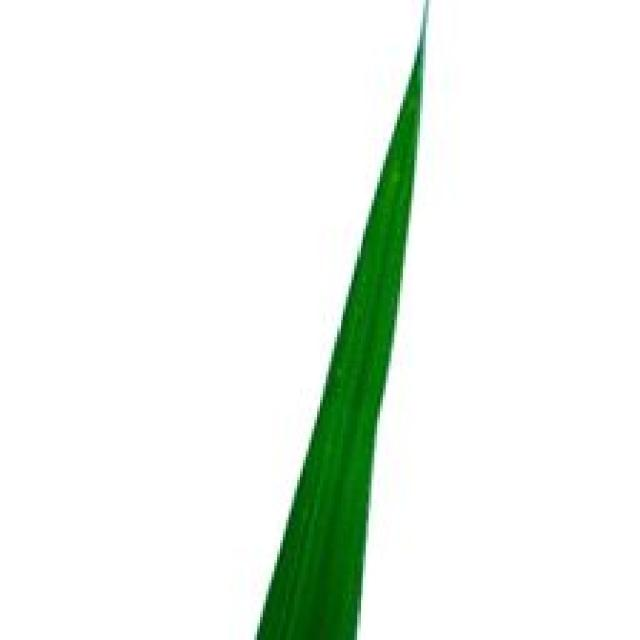Rice___Healthy_Rice_Plant: (256, 0, 427, 637)
